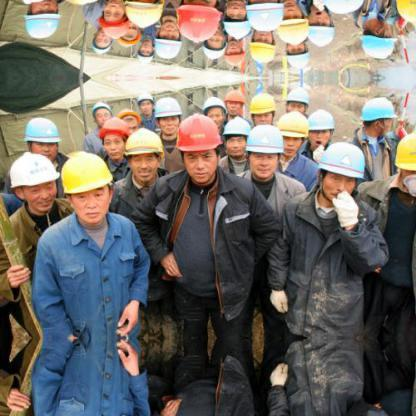Helmet: (54, 150, 112, 218), (7, 146, 61, 212), (314, 136, 364, 198), (171, 115, 214, 179), (120, 127, 164, 181), (244, 122, 284, 176), (22, 112, 60, 160), (170, 0, 214, 38), (21, 0, 61, 40), (276, 0, 310, 45), (358, 93, 394, 135), (358, 17, 394, 59), (277, 107, 309, 154), (153, 92, 183, 138), (153, 14, 183, 60), (96, 116, 128, 158), (221, 112, 250, 157), (95, 0, 130, 37), (392, 128, 414, 186), (221, 0, 252, 41), (306, 104, 335, 147), (306, 5, 335, 48), (244, 0, 284, 30), (120, 0, 164, 26), (246, 90, 276, 124), (246, 28, 276, 62), (313, 0, 366, 17), (282, 84, 310, 116), (282, 36, 310, 68), (200, 93, 225, 123), (200, 29, 225, 59), (224, 86, 246, 116), (224, 36, 246, 66), (88, 98, 112, 124), (88, 28, 112, 54), (134, 88, 152, 118), (134, 34, 152, 64), (392, 0, 414, 24)
